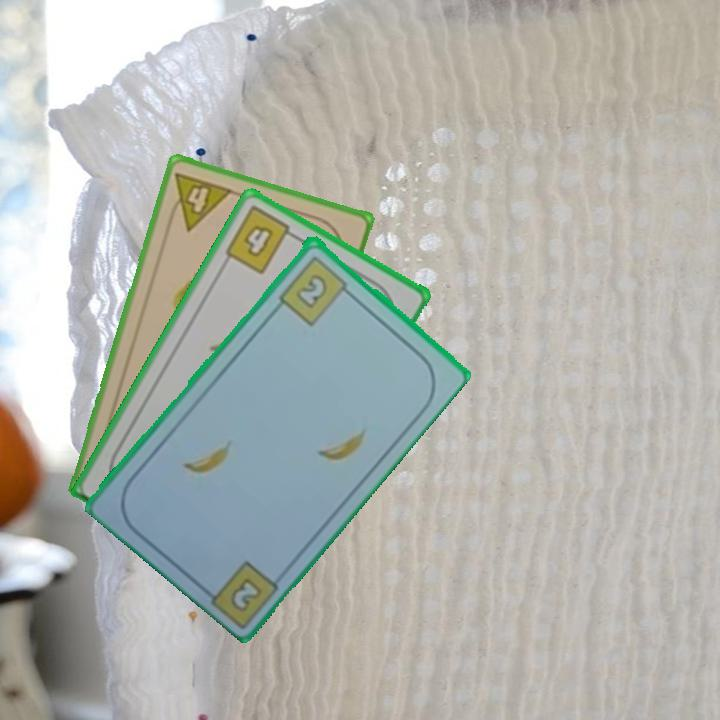2b: (275, 252, 355, 328), (226, 573, 265, 612)
4b: (221, 202, 302, 277)
4p: (163, 168, 236, 234)
